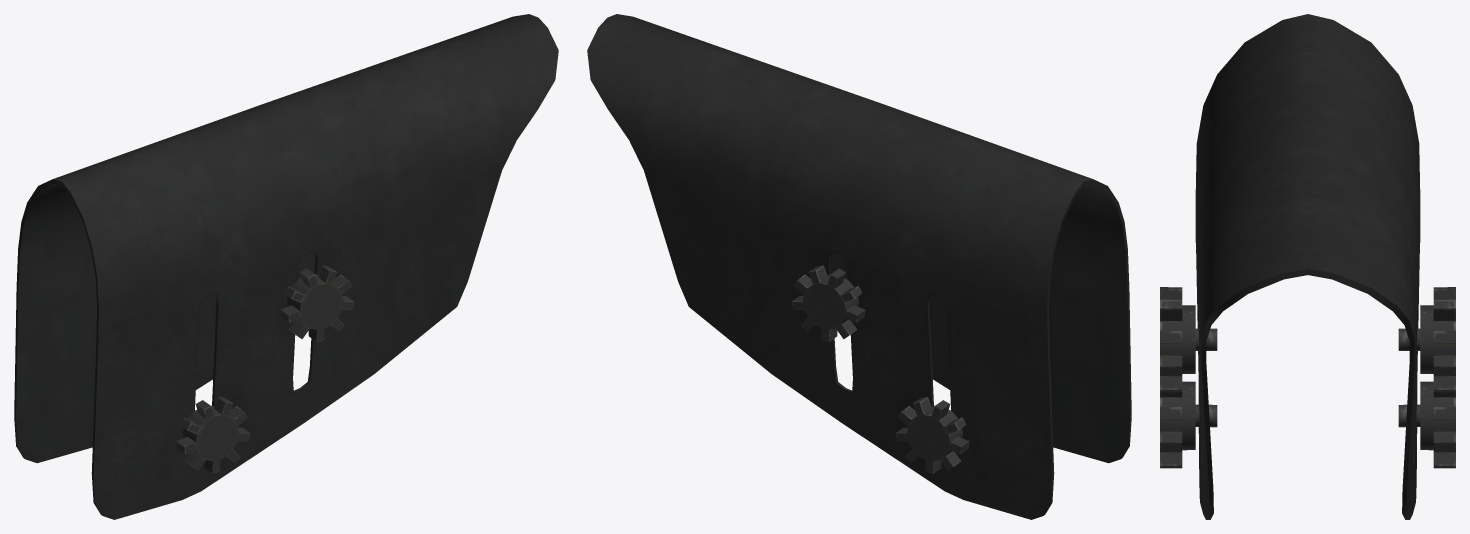
File: ST_Stock_CheekPad_Winchester.FBX
The picture shows the model from 3 angles, left to right: view 1: azimuth 30°, elevation 25°; view 2: azimuth 150°, elevation 25°; view 3: azimuth 270°, elevation 25°; orthographic projection. The views are drawn at different scales.
Visible parts, largest first — view 1: ST_Stock_CheekPad_Winchester; view 2: ST_Stock_CheekPad_Winchester; view 3: ST_Stock_CheekPad_Winchester.
Part boxes in pixels (x1,y1,x2,y2): ST_Stock_CheekPad_Winchester: (14, 14, 558, 519); ST_Stock_CheekPad_Winchester: (587, 14, 1131, 519); ST_Stock_CheekPad_Winchester: (1160, 14, 1455, 519).
Size of the model in its own units: 15.69 by 11.13 by 6.02.
1 material, 1 textured.
